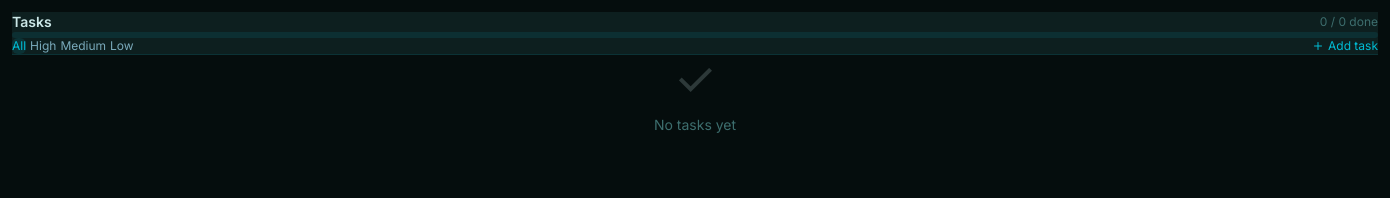
Test: TaskTracker › opens add task form when Add task button clicked
This screenshot has width=1390, height=198.
Click the button "Add task". click: click(1345, 46)
box: [1312,38,1378,54]
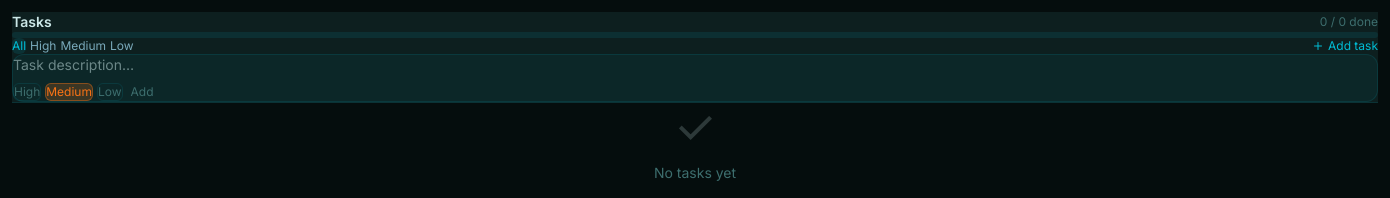
Check: the field with placeholder "Task description…" is shown, box [13,55,1377,75]
